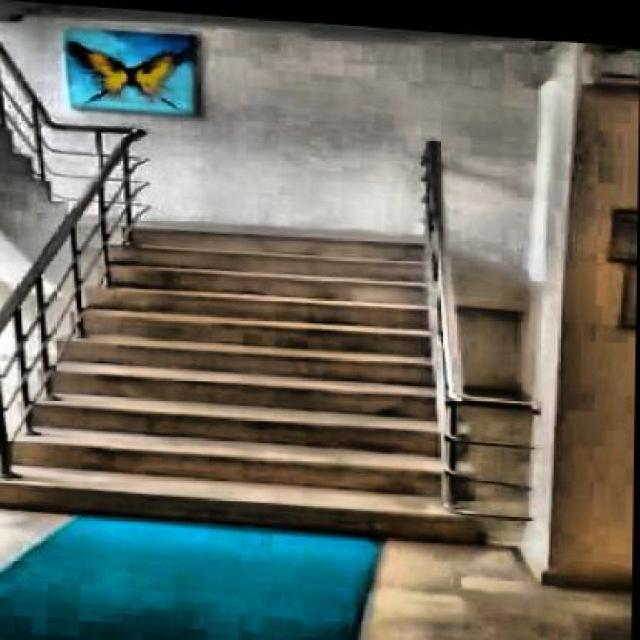stair: (0, 215, 523, 548)
